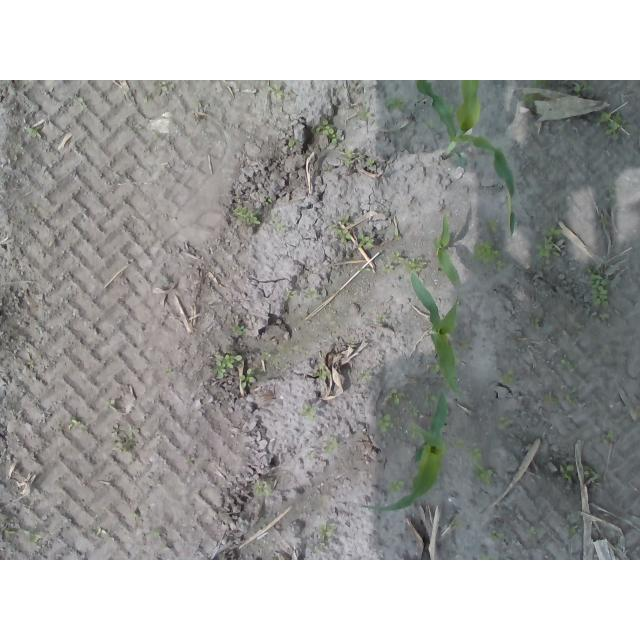Maize: (415, 80, 518, 241), (361, 389, 449, 514), (409, 269, 465, 395), (433, 215, 464, 293)
Weeds: (327, 214, 373, 251), (214, 352, 258, 389), (587, 265, 612, 321), (468, 446, 494, 487), (473, 239, 507, 270), (382, 251, 426, 273), (592, 113, 624, 143), (558, 462, 600, 484), (540, 386, 581, 407), (536, 223, 560, 257), (231, 205, 262, 226), (567, 510, 583, 538), (288, 287, 320, 301), (318, 120, 335, 145), (385, 96, 410, 113), (559, 351, 578, 373), (384, 386, 404, 406), (319, 519, 337, 541), (571, 80, 595, 96), (22, 527, 42, 545), (497, 367, 515, 385), (253, 480, 272, 497), (377, 412, 392, 433), (406, 423, 423, 440), (301, 402, 316, 419), (496, 416, 513, 430), (388, 479, 405, 493), (455, 338, 474, 350), (489, 529, 508, 541), (154, 80, 168, 96), (430, 364, 443, 381), (343, 146, 354, 166), (314, 363, 326, 381), (231, 323, 246, 337), (522, 92, 540, 103), (453, 438, 467, 451), (606, 430, 620, 443), (486, 219, 498, 234), (270, 84, 282, 99), (324, 439, 337, 452), (423, 391, 438, 401), (531, 80, 546, 89), (450, 519, 462, 530), (105, 398, 118, 408), (479, 553, 497, 560), (424, 120, 436, 128), (26, 127, 35, 137), (70, 417, 78, 427), (264, 353, 272, 362), (361, 267, 372, 273), (152, 531, 160, 539), (366, 159, 374, 166), (289, 142, 295, 151)
